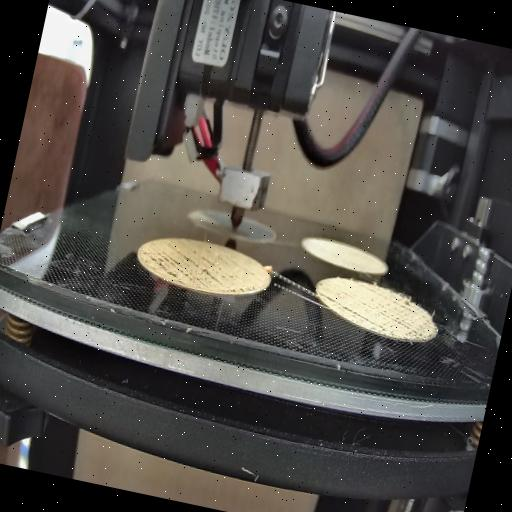under_extrusion: (137, 241, 258, 294), (372, 288, 436, 340), (316, 294, 372, 322)
